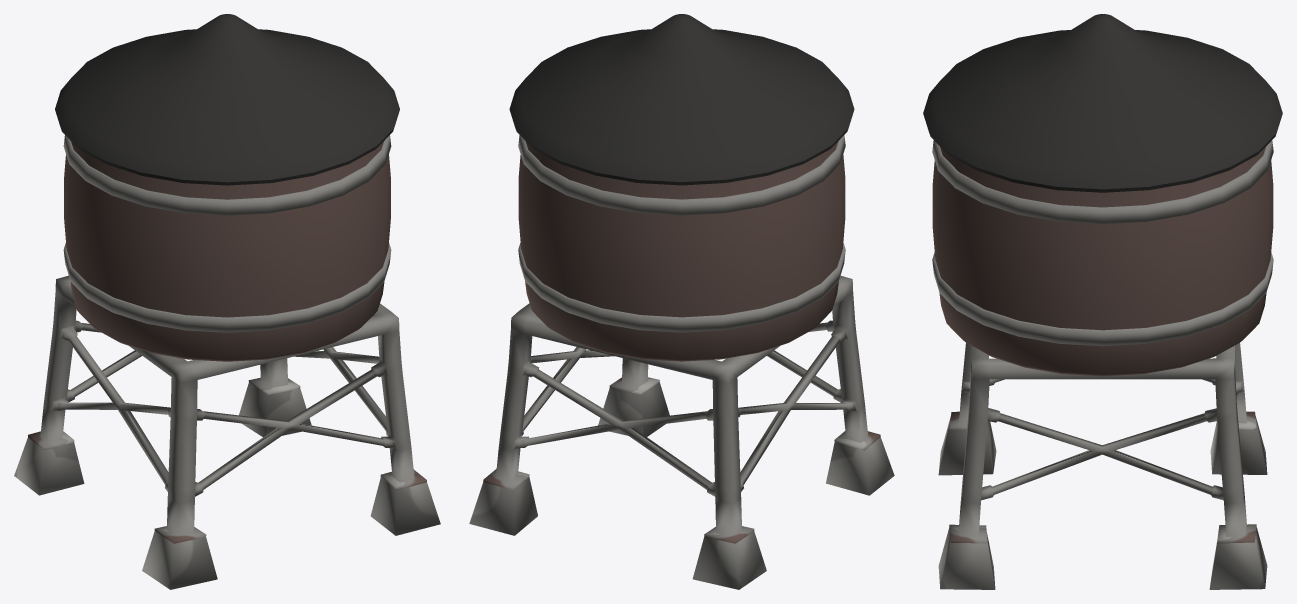
Rendered from SM_LargeWater.fbx.
3 views of the same model, side by side, from view 1: azimuth 30°, elevation 25°; view 2: azimuth 150°, elevation 25°; view 3: azimuth 270°, elevation 25° (orthographic). The views are drawn at different scales.
Parts seen in each view (by area): view 1: LargeWater; view 2: LargeWater; view 3: LargeWater.
Boxes of the visible parts, bbox=[...] form: LargeWater: bbox=[14, 14, 440, 589]; LargeWater: bbox=[469, 14, 894, 589]; LargeWater: bbox=[923, 14, 1282, 589].
Bounding box in the file's own units: 376 × 583 × 376.
